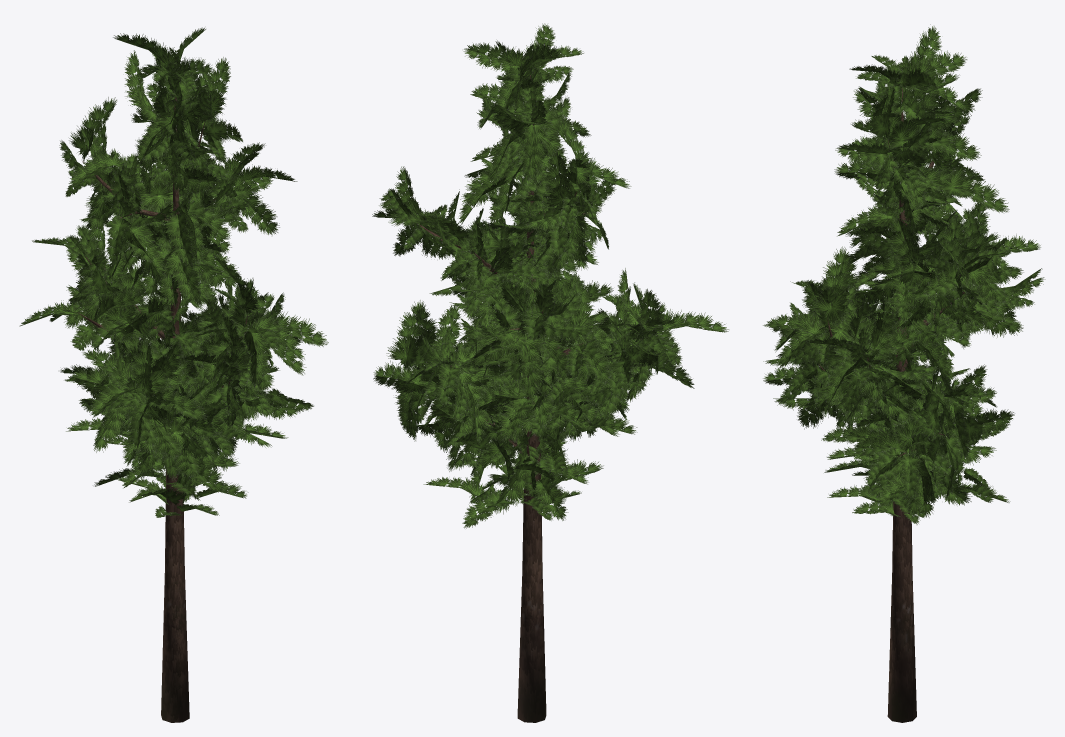
File: Pinus1.fbx
3 views of the same model, side by side, from view 1: azimuth 30°, elevation 25°; view 2: azimuth 150°, elevation 25°; view 3: azimuth 270°, elevation 25° (orthographic). The views are drawn at different scales.
Parts seen in each view (by area): view 1: daun; view 2: daun; view 3: daun.
Part boxes in pixels (left/top/right/bottom): daun: left=19, top=27, right=328, bottom=722; daun: left=372, top=23, right=729, bottom=722; daun: left=763, top=24, right=1045, bottom=722.
Bounding box in the file's own units: 1612 × 3676 × 1417.
